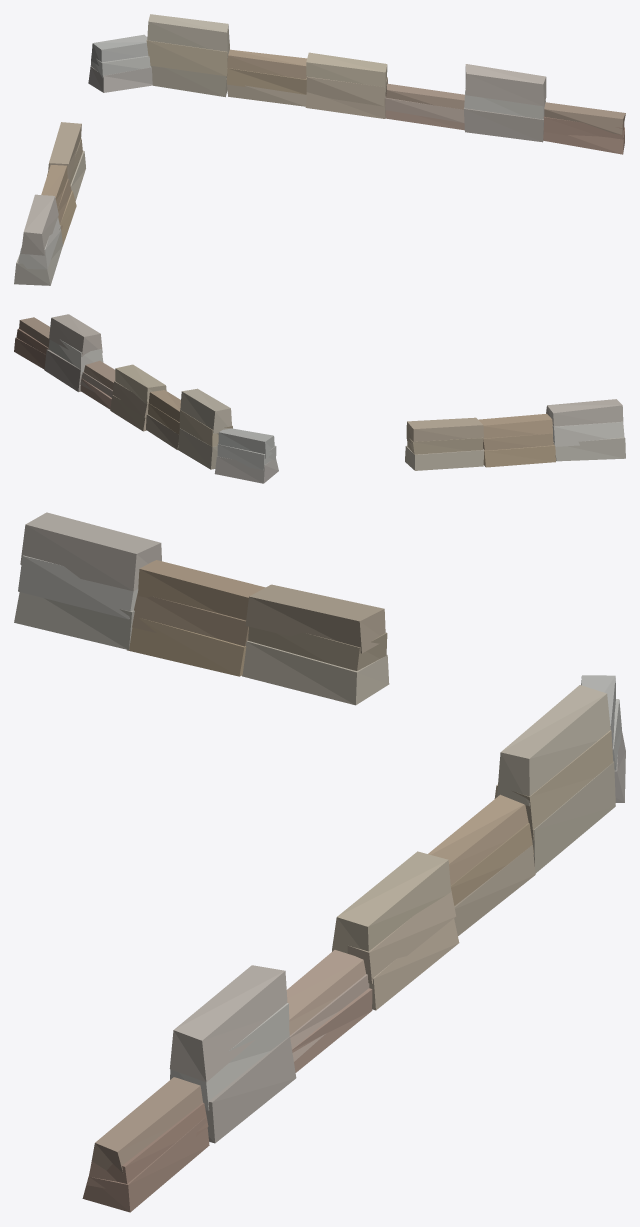
File: farm_-15_-23_mid.glb
3 views of the same model, one above another, from view 1: azimuth 30°, elevation 25°; view 2: azimuth 150°, elevation 25°; view 3: azimuth 270°, elevation 25° (orthographic). The views are drawn at different scales.
Visible parts, largest first — view 1: geometry_0; view 2: geometry_0; view 3: geometry_0.
Part boxes in pixels (<box>): geometry_0: <box>14,14,625,285</box>; geometry_0: <box>14,314,625,483</box>; geometry_0: <box>14,512,625,1212</box>.
Size of the model in its own units: 14.65 by 2.58 by 6.74.
